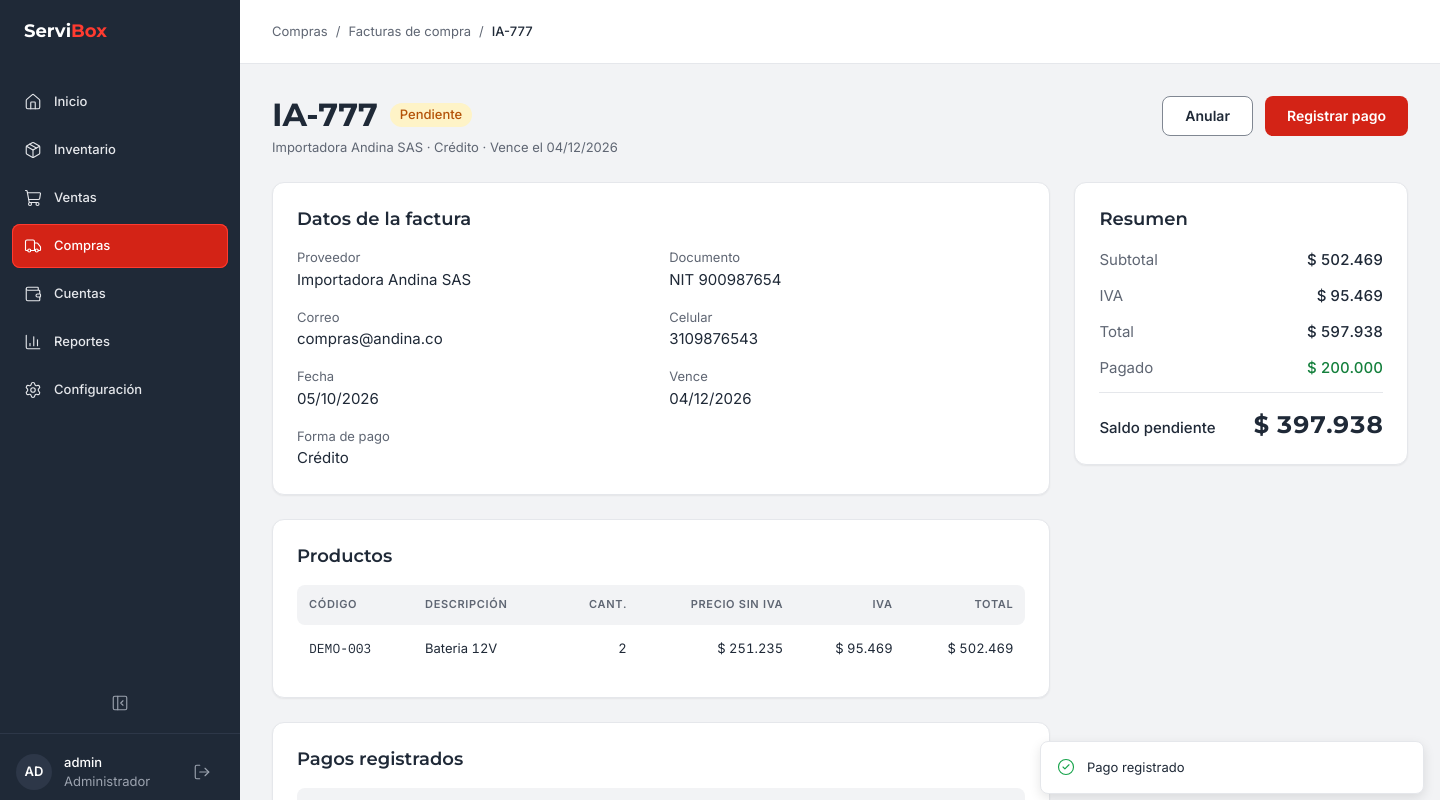
Test: detalle de factura de compra › al saldar la factura pasa a Pagada y desaparece Registrar pago
The image size is (1440, 800).
Click the button "Registrar pago" at (1336, 116), box left=1265, top=96, right=1408, bottom=136
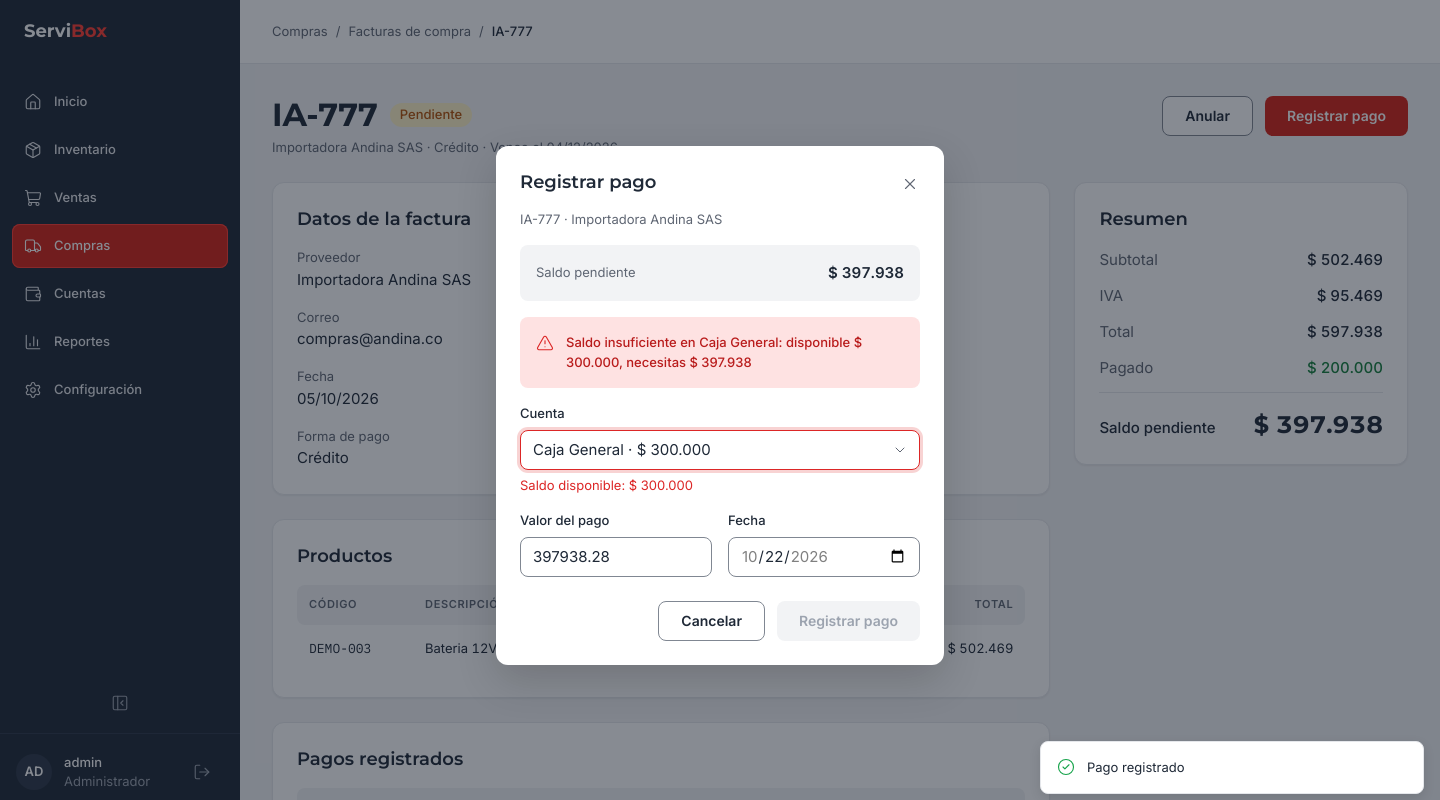
Select "Bancolombia · $ 2.000.000" in the dropdown labelled "Cuenta" at (720, 450), box left=520, top=430, right=920, bottom=470
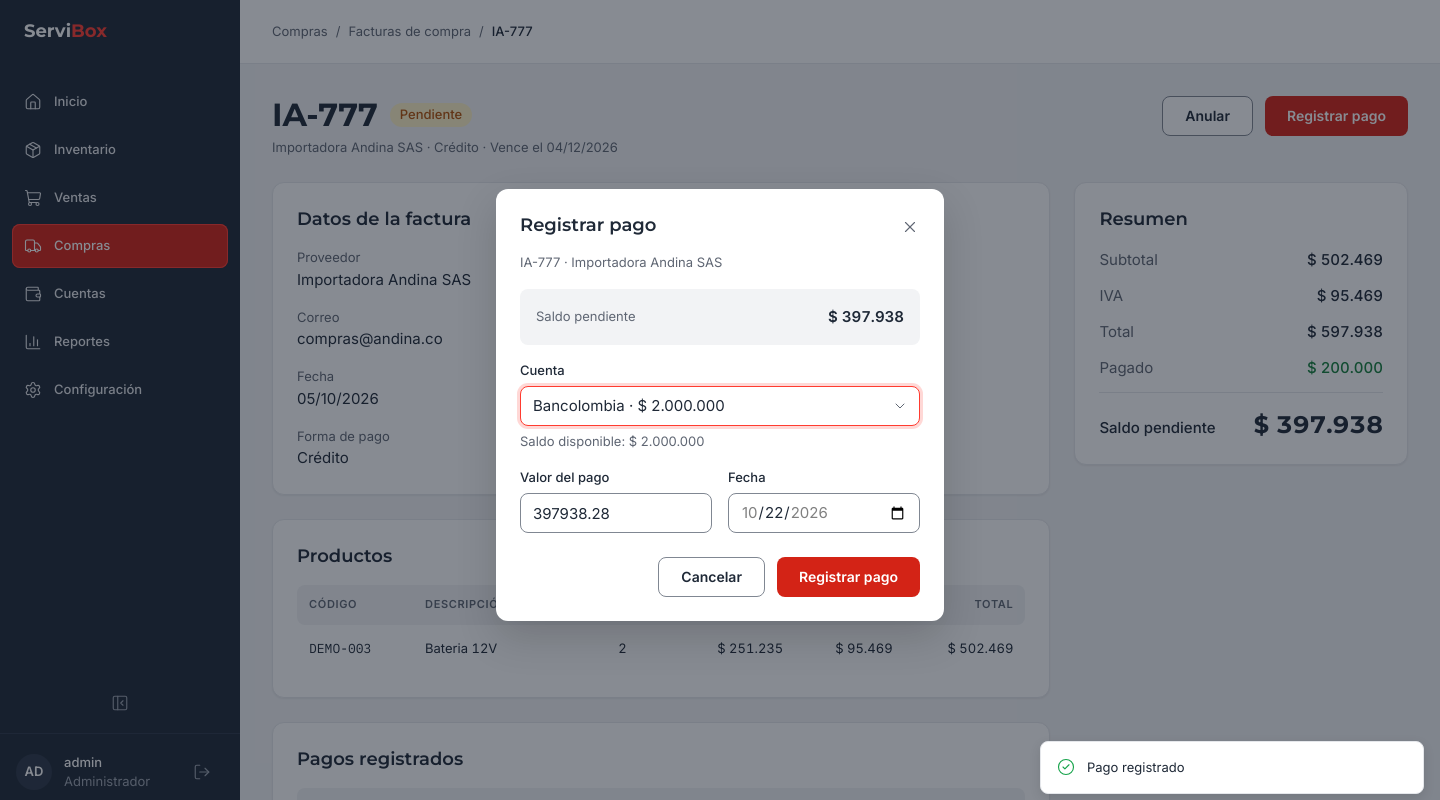
Click the button "Registrar pago" at (848, 577), box left=777, top=557, right=920, bottom=597
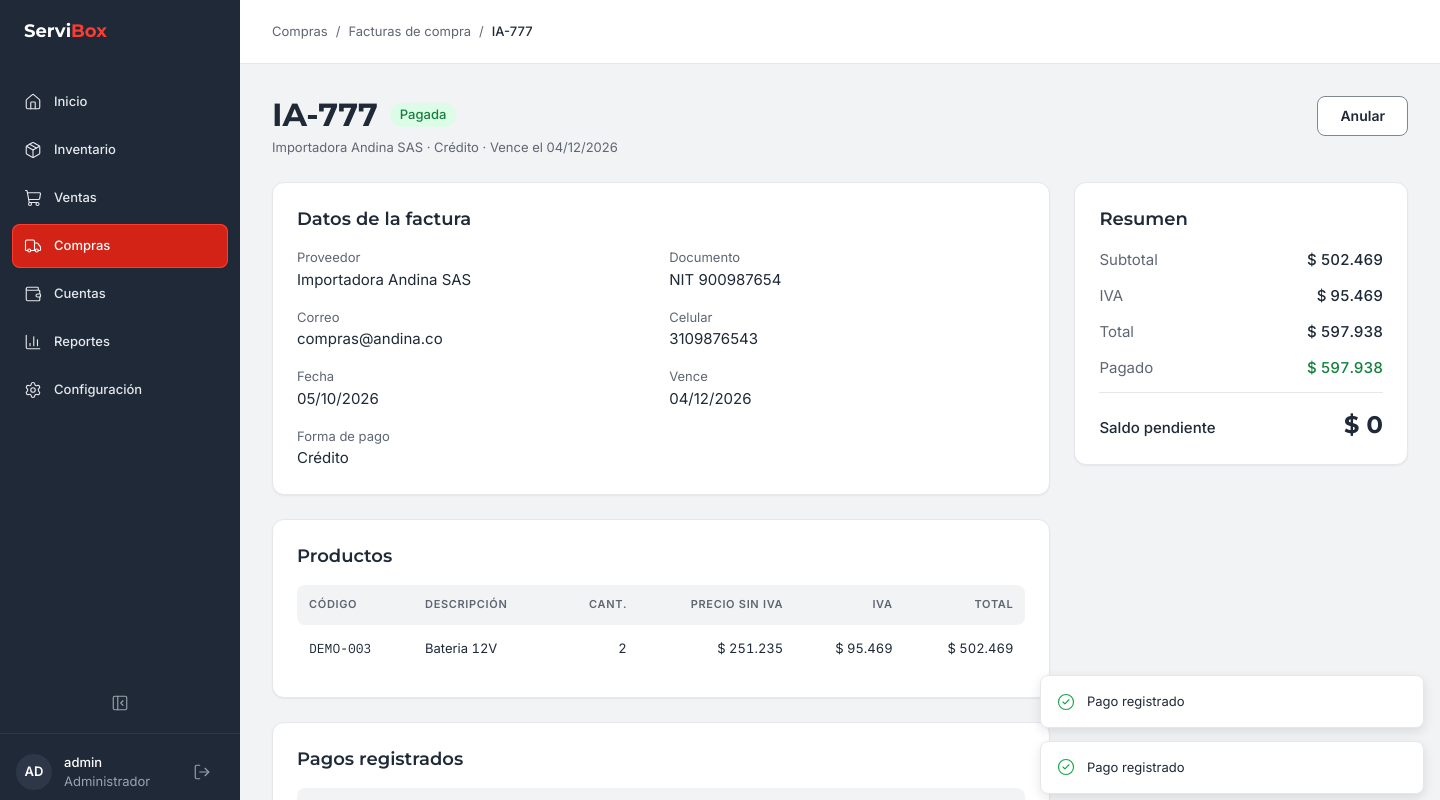
Expected: the button "Anular" is shown, left=1317, top=96, right=1408, bottom=136
Expected: the text "Pagada" is shown, left=390, top=103, right=456, bottom=127
Expected: the button "Registrar pago" is gone
